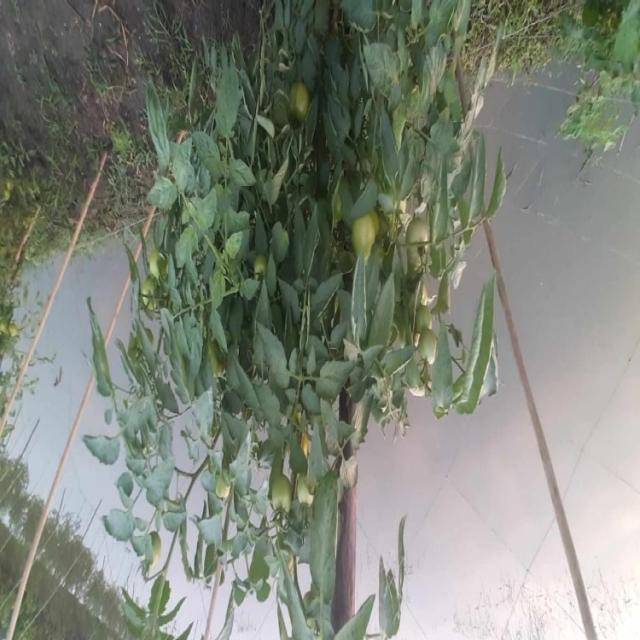tomato: (351, 213, 402, 275), (133, 268, 177, 318), (419, 316, 451, 359), (266, 475, 297, 509), (283, 464, 312, 499), (291, 82, 307, 112)
